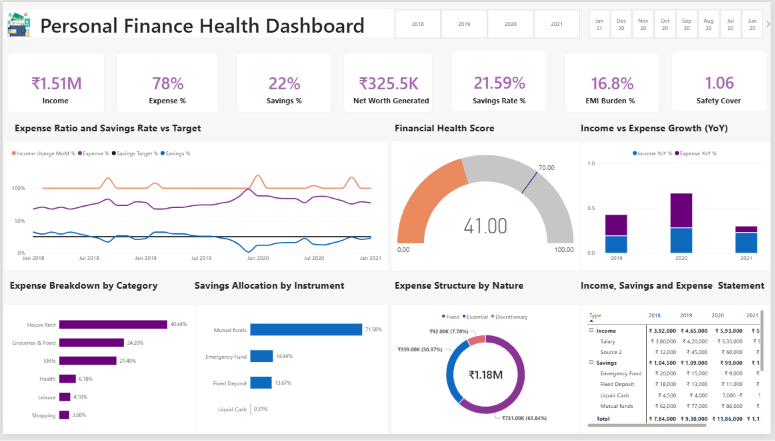

The page's visual inventory and layout, read from the dashboard file:
{"tool":"powerbi","page":{"name":"Fin Dashboard","canvas":[1920,1080],"ordinal":0},"visuals":[{"type":"cardVisual","fields":{"Data":["Key measures.Total income"]},"box":[12.5,125,242.7,152],"z":0},{"type":"cardVisual","fields":{"Data":["Key measures.Expense %"]},"box":[285,125,255.7,152.9],"z":1000},{"type":"cardVisual","fields":{"Data":["Key measures.Savings %"]},"box":[585,125,238.6,151.4],"z":2000},{"type":"textbox","box":[612.5,232.5,183.7,40.7],"z":3000},{"type":"textbox","box":[42.5,232.5,183.7,40.7],"z":4000},{"type":"textbox","box":[320,235,184.3,40],"z":5000},{"type":"cardVisual","fields":{"Data":["Key measures.Total Saving"]},"box":[852.5,125,222.9,151.4],"z":6000},{"type":"textbox","box":[870,232.5,183.7,40.7],"z":7000},{"type":"slicer","fields":{"Values":["FinData.Year"]},"box":[960.8,0,502,74.5],"z":8000},{"type":"slicer","fields":{"Values":["FinData.Date"]},"box":[1445.1,0,474.5,74.5],"z":9000},{"type":"cardVisual","fields":{"Data":["Key measures.Title"]},"box":[13.5,0,962.1,74.2],"z":15000},{"type":"textbox","box":[480,690,482.5,57.5],"z":16000},{"type":"clusteredBarChart","fields":{"Category":["FinData.Component"],"Y":["Key measures.Total Expense"]},"box":[12.5,755,480,325],"z":17000},{"type":"clusteredBarChart","fields":{"Category":["FinData.Component"],"Y":["Key measures.Total Saving"]},"box":[500,755.7,465.7,324.3],"z":18000},{"type":"textbox","box":[17.5,690,460,35],"z":19000},{"type":"textbox","box":[30,297.5,505,70],"z":20000},{"type":"lineChart","fields":{"Category":["FinData.Date"],"Y":["Key measures.Income change MoM %","Key measures.Expense %","Key measures.Savings target","Key measures.Savings %"]},"box":[5,347.5,948.6,325.7],"z":21000},{"type":"textbox","box":[1457.5,690,397.5,70],"z":22002},{"type":"pivotTable","fields":{"Columns":["DimDate.Year"],"Rows":["Type.Type","DimComponent.Component"],"Values":["Sum(FinData.Value)"]},"box":[1445,755,475,325],"z":22004},{"type":"cardVisual","fields":{"Data":["Key measures.Emergency Fund Coverage (Months)"]},"box":[1657.5,122.5,238.6,151.4],"z":22006},{"type":"cardVisual","fields":{"Data":["Key measures.EMI Burden %"]},"box":[1402.5,125,238.6,151.4],"z":22007},{"type":"cardVisual","fields":{"Data":["Key measures.Savings Rate %"]},"box":[1122.5,122.5,238.6,151.4],"z":22008},{"type":"textbox","box":[30,81.4,158.8,42.5],"z":22011},{"type":"textbox","box":[1430,232.5,183.7,40.7],"z":22012},{"type":"textbox","box":[1150,232.5,183.7,40.7],"z":22013},{"type":"textbox","box":[1687.5,232.5,183.7,40.7],"z":22014},{"type":"gauge","fields":{"Y":["Key measures.Financial Health Score"]},"box":[985,347.5,455,325],"z":22015},{"type":"donutChart","fields":{"Category":["DimComponent.Nature"],"Y":["Key measures.Total Expense"]},"box":[970,755,475,325],"z":22017},{"type":"textbox","box":[990,297.5,455,70],"z":22019},{"type":"textbox","box":[980,690,475,70],"z":22020},{"type":"columnChart","fields":{"Category":["DimDate.Year"],"Y":["Key measures.Income YoY %","Key measures.Expense YoY %"]},"box":[1445,347.5,475,325],"z":22021},{"type":"textbox","box":[1455,297.5,455,70],"z":22022}]}

Visuals, with their boxes in screenshot pixels (x1, y1, x2, y2), scaled from the page's 1920x1080 canvas onto the 775x441 screenshot:
cardVisual - Key measures.Total income: <bbox>5, 51, 103, 113</bbox>
cardVisual - Key measures.Expense %: <bbox>115, 51, 218, 113</bbox>
cardVisual - Key measures.Savings %: <bbox>236, 51, 332, 113</bbox>
textbox: <bbox>247, 95, 321, 112</bbox>
textbox: <bbox>17, 95, 91, 112</bbox>
textbox: <bbox>129, 96, 204, 112</bbox>
cardVisual - Key measures.Total Saving: <bbox>344, 51, 434, 113</bbox>
textbox: <bbox>351, 95, 425, 112</bbox>
slicer - FinData.Year: <bbox>388, 0, 590, 30</bbox>
slicer - FinData.Date: <bbox>583, 0, 774, 30</bbox>
cardVisual - Key measures.Title: <bbox>5, 0, 394, 30</bbox>
textbox: <bbox>194, 282, 389, 305</bbox>
clusteredBarChart - FinData.Component x Key measures.Total Expense: <bbox>5, 308, 199, 440</bbox>
clusteredBarChart - FinData.Component x Key measures.Total Saving: <bbox>202, 309, 390, 440</bbox>
textbox: <bbox>7, 282, 193, 296</bbox>
textbox: <bbox>12, 121, 216, 150</bbox>
lineChart - FinData.Date x Key measures.Income change MoM %: <bbox>2, 142, 385, 275</bbox>
textbox: <bbox>588, 282, 749, 310</bbox>
pivotTable - DimDate.Year x Type.Type: <bbox>583, 308, 774, 440</bbox>
cardVisual - Key measures.Emergency Fund Coverage (Months): <bbox>669, 50, 765, 112</bbox>
cardVisual - Key measures.EMI Burden %: <bbox>566, 51, 662, 113</bbox>
cardVisual - Key measures.Savings Rate %: <bbox>453, 50, 549, 112</bbox>
textbox: <bbox>12, 33, 76, 51</bbox>
textbox: <bbox>577, 95, 651, 112</bbox>
textbox: <bbox>464, 95, 538, 112</bbox>
textbox: <bbox>681, 95, 755, 112</bbox>
gauge - Key measures.Financial Health Score: <bbox>398, 142, 581, 275</bbox>
donutChart - DimComponent.Nature x Key measures.Total Expense: <bbox>392, 308, 583, 440</bbox>
textbox: <bbox>400, 121, 583, 150</bbox>
textbox: <bbox>396, 282, 587, 310</bbox>
columnChart - DimDate.Year x Key measures.Income YoY %: <bbox>583, 142, 774, 275</bbox>
textbox: <bbox>587, 121, 771, 150</bbox>
